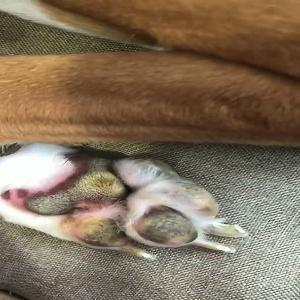keratosis: (19, 163, 129, 216)
